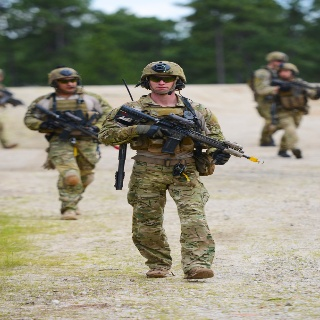rifle: (117, 104, 264, 165), (33, 102, 101, 143)
